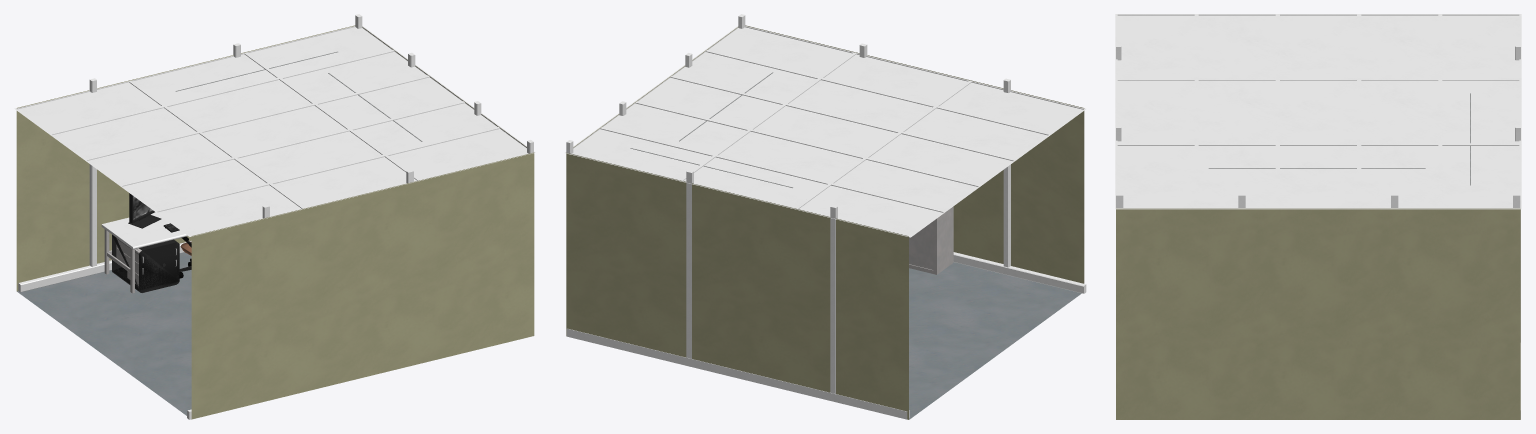
File: FBX_ground_station_pilot_room.FBX
3 views of the same model, side by side, from view 1: azimuth 30°, elevation 25°; view 2: azimuth 150°, elevation 25°; view 3: azimuth 270°, elevation 25° (orthographic). The views are drawn at different scales.
Visible parts, largest first — view 1: Walls, Ceiling, Floor, GCS_Case_01, Desktop_B_01, Floor_Baserunner_01, Floor_Baserunner_09; view 2: Walls, Ceiling, Floor, Floor_Baserunner_01, CabinetA03, Floor_Baserunner_03, Floor_Baserunner_06, Floor_Baserunner_09, Floor_Baserunner_08; view 3: Walls, Ceiling.
Boxes of the visible parts, x1,y1,x2,y2 form: Walls: (16,25,534,419); Ceiling: (14,26,535,236); Floor: (17,252,191,415); GCS_Case_01: (112,234,179,292); Desktop_B_01: (101,212,187,249); Floor_Baserunner_01: (18,241,191,292); Floor_Baserunner_09: (89,78,96,266); Walls: (566,25,1084,419); Ceiling: (565,26,1085,237); Floor: (909,262,1081,419); Floor_Baserunner_01: (566,328,909,419); CabinetA03: (909,206,953,274); Floor_Baserunner_03: (953,252,1086,293); Floor_Baserunner_06: (686,170,693,358); Floor_Baserunner_09: (830,205,837,393); Floor_Baserunner_08: (1003,78,1010,267); Walls: (1116,208,1520,419); Ceiling: (1115,14,1521,209).
Size of the model in its own units: 233 by 125 by 205.
36 materials, 30 textured.
